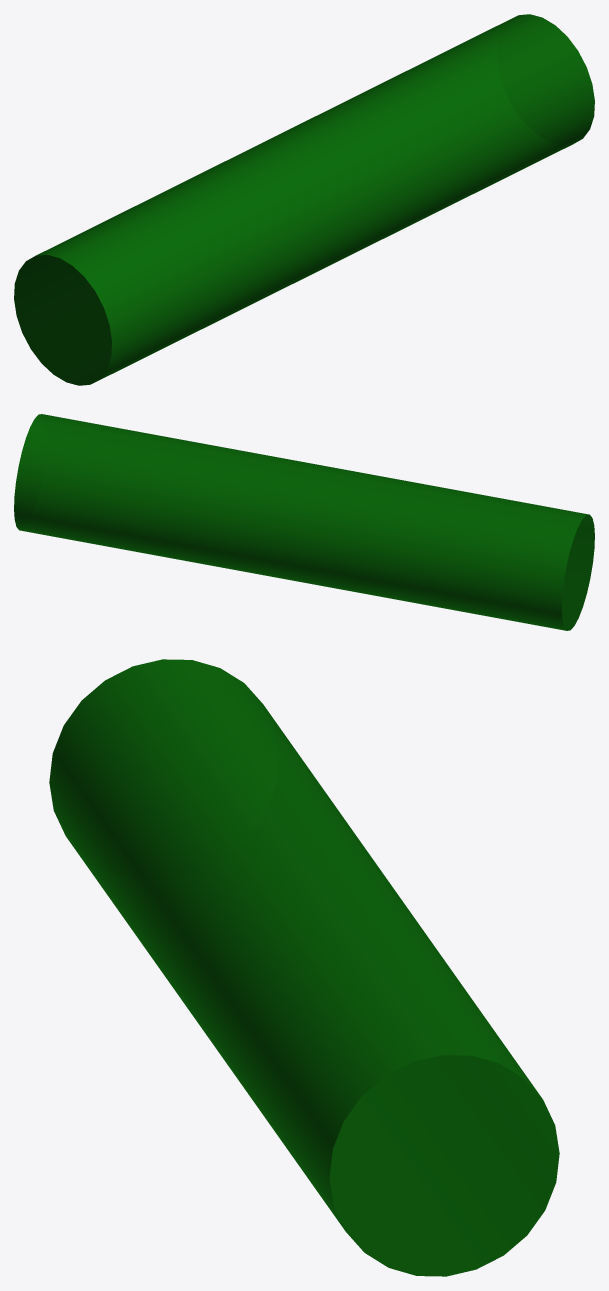
File: Event_191826238_jet_10.fbx
3 renders of one model, top to bottom at view 1: azimuth 30°, elevation 25°; view 2: azimuth 150°, elevation 25°; view 3: azimuth 270°, elevation 25°, orthographic. The views are drawn at different scales.
Parts seen in each view (by area): view 1: Model; view 2: Model; view 3: Model.
Boxes of the visible parts, left/top/right/bottom form: Model: left=14, top=14, right=594, bottom=385; Model: left=14, top=414, right=594, bottom=630; Model: left=49, top=659, right=559, bottom=1276.
Size of the model in its own units: 0.196 by 0.053 by 0.0859.
